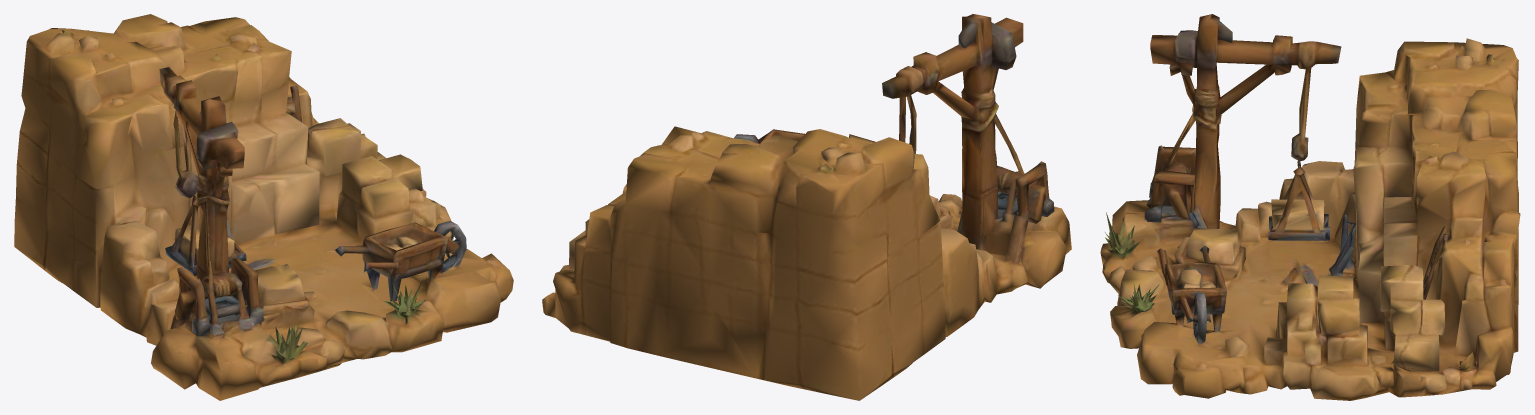
The model's file is quarry.glb.
3 views of the same model, side by side, from view 1: azimuth 30°, elevation 25°; view 2: azimuth 150°, elevation 25°; view 3: azimuth 270°, elevation 25° (orthographic). The views are drawn at different scales.
Visible parts, largest first — view 1: tripo_node_e48168a1-68e4-4fdd-9406-fcbed2607be8; view 2: tripo_node_e48168a1-68e4-4fdd-9406-fcbed2607be8; view 3: tripo_node_e48168a1-68e4-4fdd-9406-fcbed2607be8.
Part boxes in pixels (x1,y1,x2,y2): tripo_node_e48168a1-68e4-4fdd-9406-fcbed2607be8: (14, 14, 513, 400); tripo_node_e48168a1-68e4-4fdd-9406-fcbed2607be8: (542, 14, 1071, 400); tripo_node_e48168a1-68e4-4fdd-9406-fcbed2607be8: (1100, 14, 1520, 400).
Size of the model in its own units: 0.9609 by 0.6506 by 0.9948.
1 material, 1 textured.
